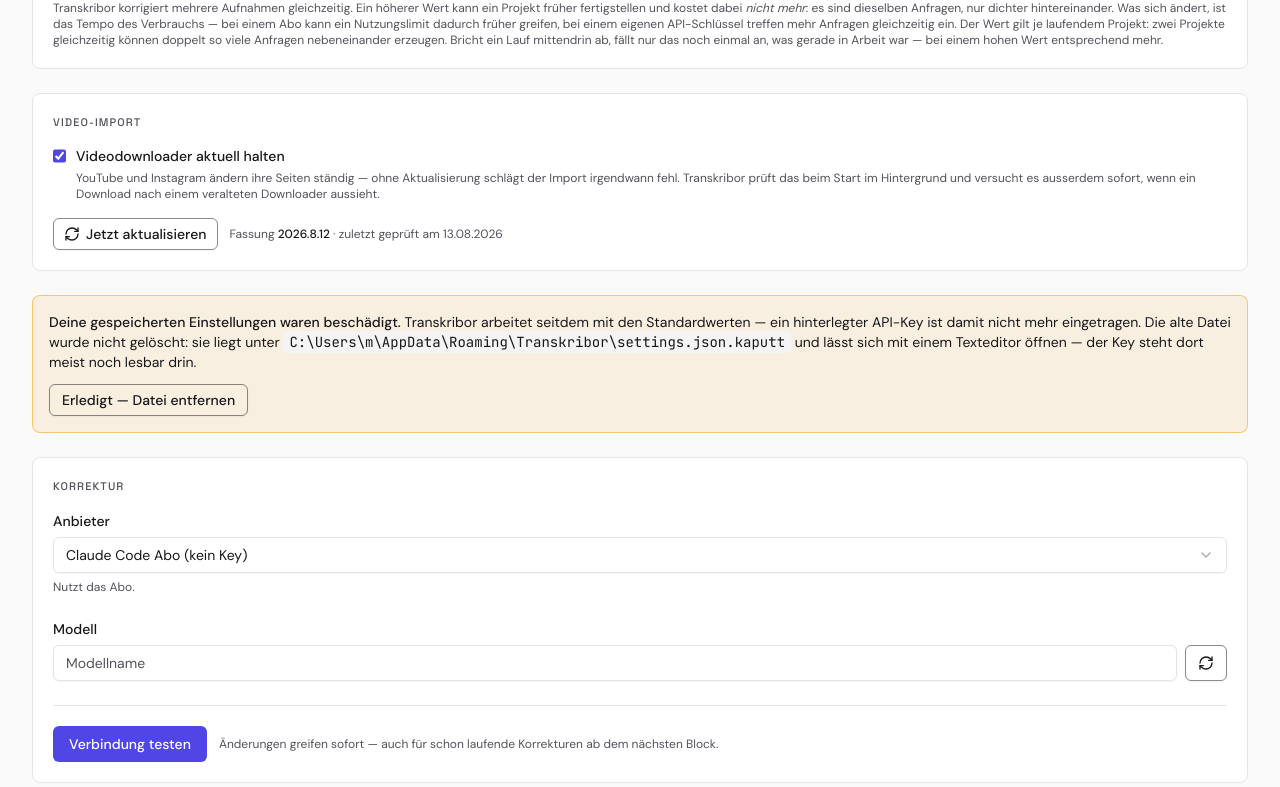
SettingsPage › nennt die beiseitegelegte Einstellungsdatei und laesst sie entfernen
The image size is (1280, 787).
(page scrolled)
Expected: the text "C:\\Users\\m\\AppData\\Roaming\\Transkribor\\settings.json.kaputt" is shown, [284, 331, 791, 353]
Click the button "Erledigt — Datei entfernen" at coordinates (149, 400), box [49, 384, 248, 416]
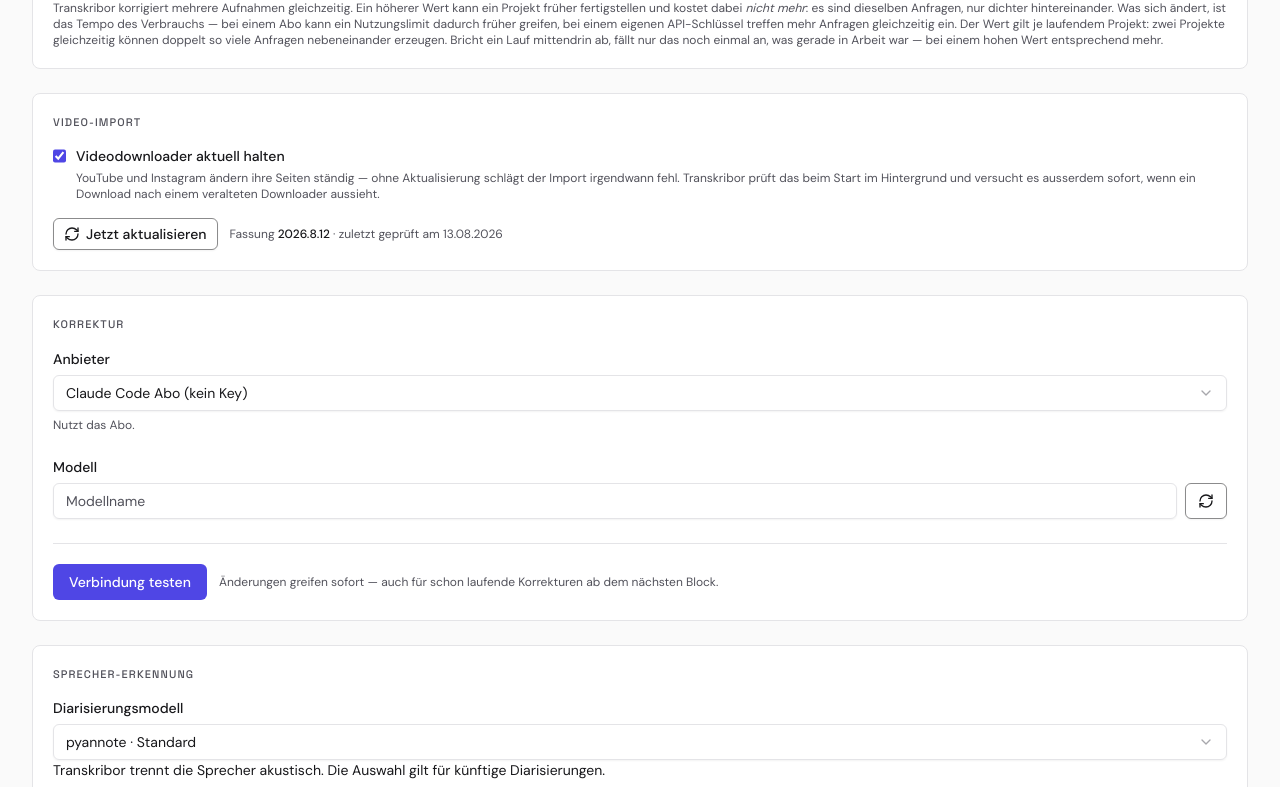
Expected: the text "settings.json.kaputt" is gone
